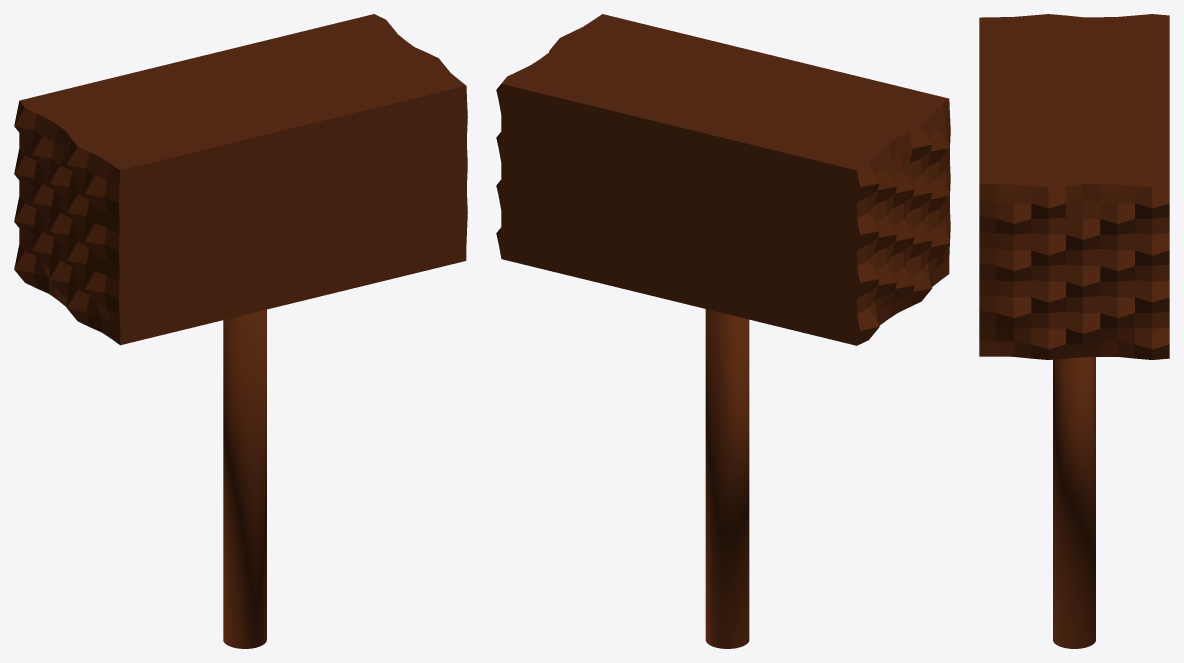
File: Maza.fbx
3 views of the same model, side by side, from view 1: azimuth 30°, elevation 25°; view 2: azimuth 150°, elevation 25°; view 3: azimuth 270°, elevation 25° (orthographic).
Parts seen in each view (by area): view 1: Cube; view 2: Cube; view 3: Cube.
Boxes of the visible parts, left/top/right/bottom form: Cube: left=14, top=14, right=467, bottom=648; Cube: left=496, top=14, right=950, bottom=648; Cube: left=979, top=14, right=1169, bottom=648.
Bounding box in the file's own units: 458 × 625 × 200.
